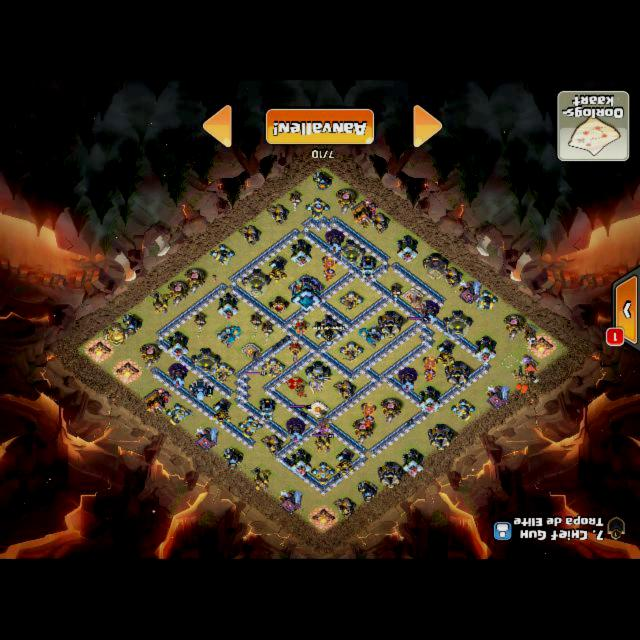AD: (436, 340, 455, 367), (269, 256, 287, 284), (337, 449, 355, 477), (214, 399, 232, 427)
AirSweeper: (287, 340, 304, 363), (293, 318, 311, 337)
BombTower: (361, 256, 376, 282), (260, 400, 275, 424)
Canon: (305, 199, 330, 221), (311, 463, 336, 485), (238, 417, 263, 439), (165, 404, 190, 426), (210, 245, 235, 266), (451, 400, 476, 421), (473, 292, 498, 312)
ClanCastle: (316, 315, 343, 347)
Eagle: (306, 361, 332, 394)
Inferno: (322, 257, 337, 282), (361, 404, 376, 429), (422, 357, 437, 382)
KingPad: (402, 289, 424, 304)
Mortar: (122, 314, 143, 336), (357, 482, 378, 504), (223, 448, 244, 470), (312, 172, 333, 192)
QueenPad: (284, 376, 307, 393)
RcPad: (242, 345, 260, 359)
Scattershot: (359, 325, 385, 348), (217, 325, 242, 348)
TH13: (291, 276, 322, 314)
WardenPad: (308, 402, 328, 417)
WizzTower: (422, 301, 440, 326), (326, 229, 344, 254), (287, 418, 305, 443), (399, 368, 417, 393), (170, 364, 188, 389)
Xbow: (263, 360, 287, 382), (341, 342, 365, 364), (212, 364, 235, 386), (341, 292, 364, 312)
